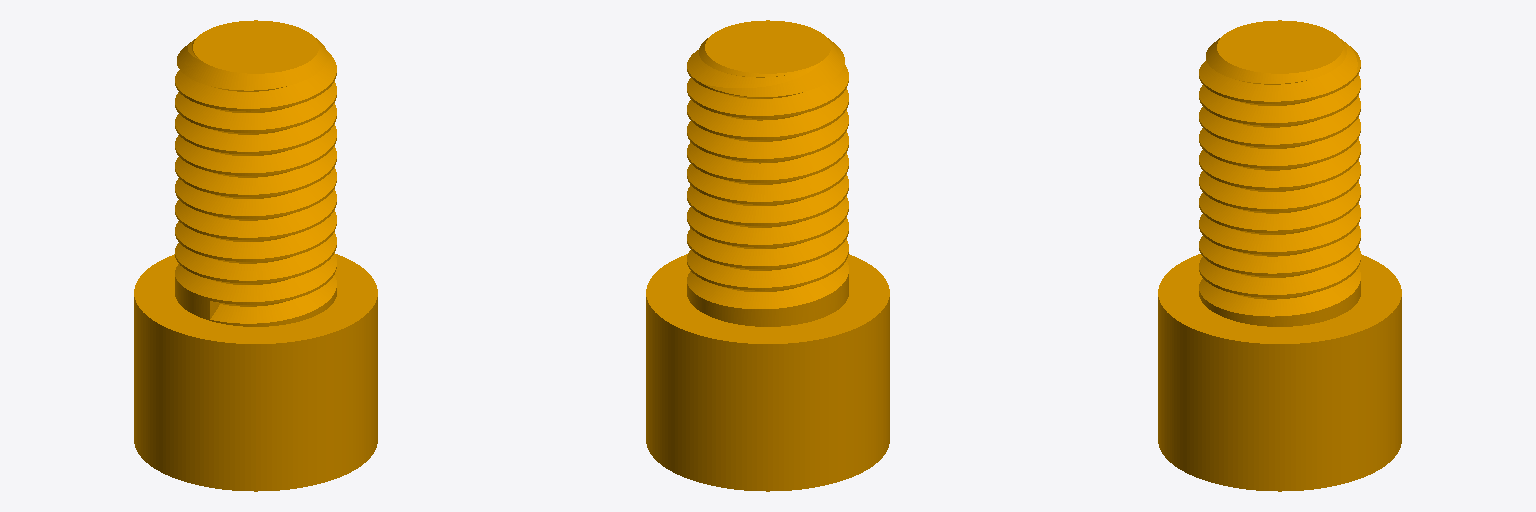
robot.urdf — factory_bolt_m12_tight:
<?xml version="1.0"?>
<robot name="factory_bolt_m12_tight">
    <link name="factory_bolt_m12_tight">
        <visual>
            <geometry>
                <mesh filename="../mesh/factory_nut_bolt/factory_bolt_m12_tight.obj"/>
            </geometry>
        </visual>
        <collision>
            <geometry>
                <mesh filename="../mesh/factory_nut_bolt/factory_bolt_m12_tight.obj"/>
            </geometry>
            <sdf resolution="512"/>
        </collision>
    </link>
</robot>

--- What the picture shows (computed from the rendered views, not written in the file) ---
The picture shows the robot from 3 angles, left to right: view 1: azimuth 30°, elevation 25°; view 2: azimuth 150°, elevation 25°; view 3: azimuth 270°, elevation 25°; orthographic projection.
Model factory_bolt_m12_tight with 1 links and 0 joints (none), rooted at factory_bolt_m12_tight, posed all joints at 0.
Visible links, largest first — view 1: factory_bolt_m12_tight; view 2: factory_bolt_m12_tight; view 3: factory_bolt_m12_tight.
Boxes of the visible links, left/top/right/bottom form: factory_bolt_m12_tight: left=134, top=20, right=377, bottom=491; factory_bolt_m12_tight: left=646, top=20, right=889, bottom=491; factory_bolt_m12_tight: left=1158, top=20, right=1401, bottom=491.
Bounding box of the posed robot: 0.018 × 0.018 × 0.032 m (x, y, z).
Meshes: 1 distinct files referenced, 1 mesh visuals loaded (1 OBJ).